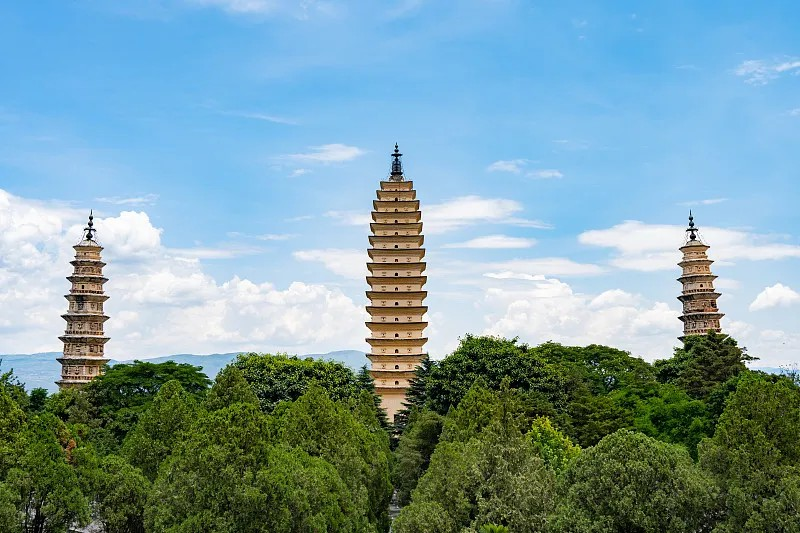ThreePagoda: (366, 143, 429, 421)
